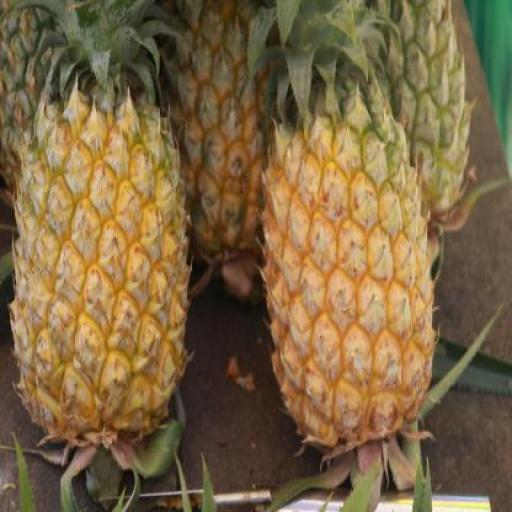Pineapple - v8 v1: (261, 116, 434, 442), (17, 98, 184, 429)
